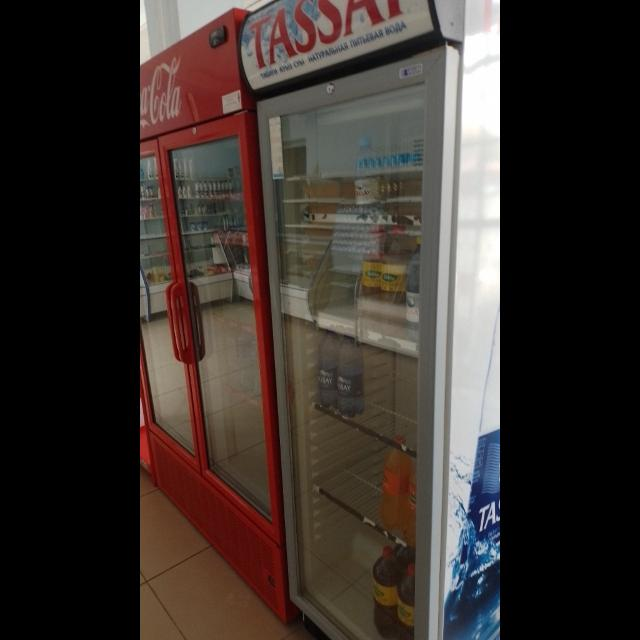Cooling-Display: (237, 1, 465, 640)
